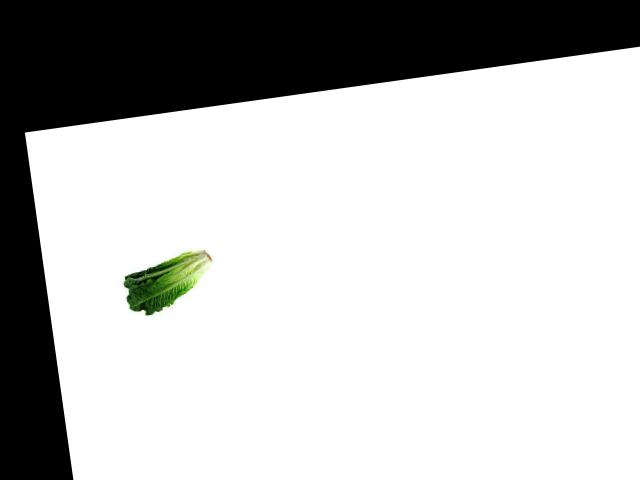lettuce: (117, 245, 223, 316)
